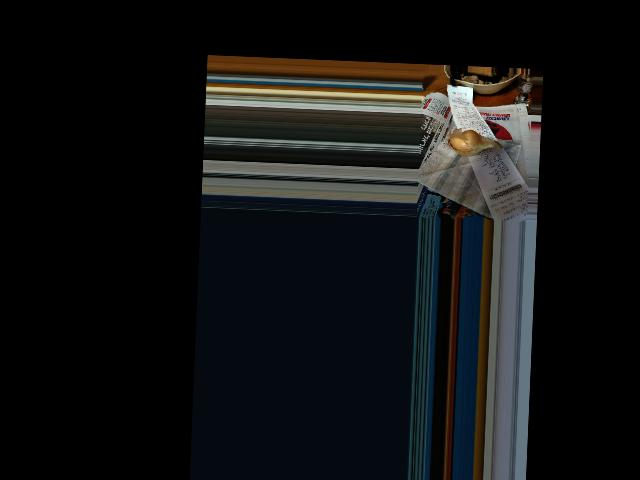onion: (448, 132, 492, 156)
